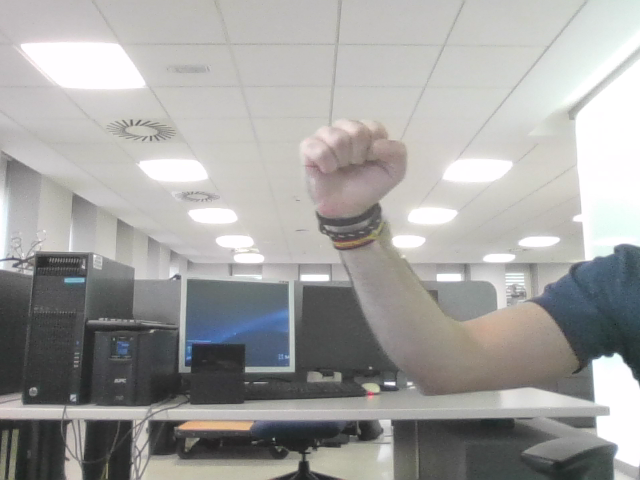Puño: (312, 129, 395, 195)
